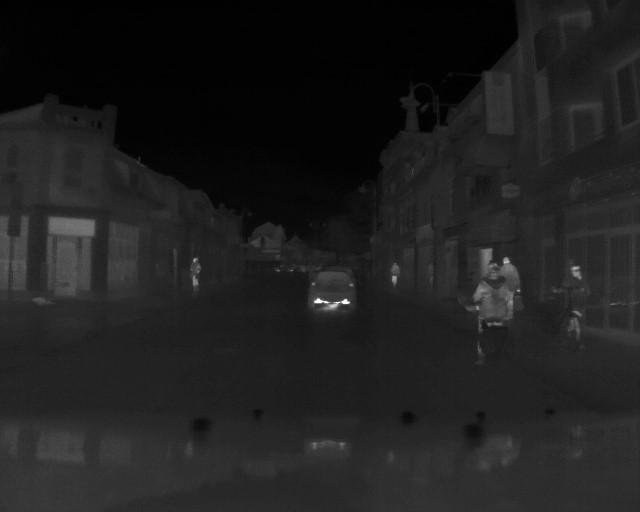car: (305, 263, 363, 316)
person: (473, 255, 512, 361), (560, 263, 590, 346), (187, 256, 200, 287), (389, 256, 401, 288)
